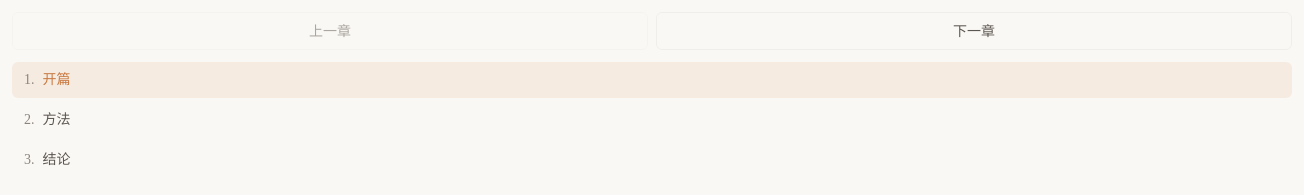
Test: ChapterNav › disables previous and next controls at chapter boundaries
Expected: the button "上一章" is disabled, [12,12,648,50]
Step 1. Click the button "下一章" → (974, 31), box [656,12,1292,50]
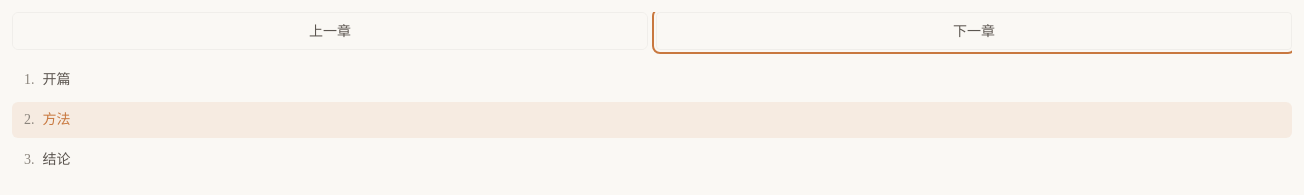
Expected: the button "上一章" is enabled, [12,12,648,50]
Step 2. Click the button "下一章" → (974, 31), box [656,12,1292,50]
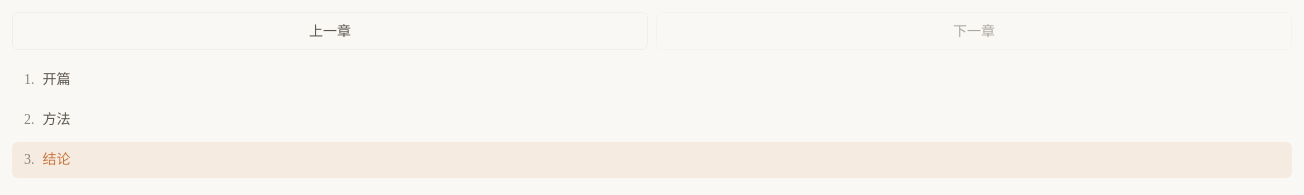
Expected: the button "上一章" is enabled, [12,12,648,50]
Expected: the button "下一章" is disabled, [656,12,1292,50]
